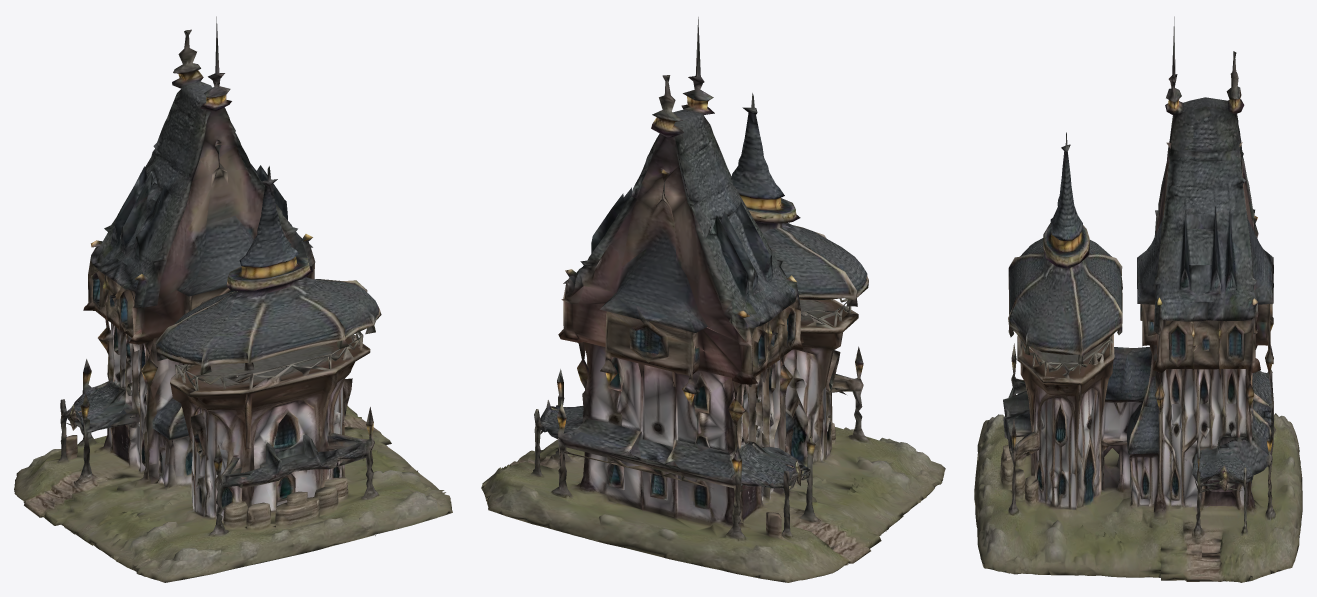
The model's file is manor.glb.
3 renders of one model, left to right at view 1: azimuth 30°, elevation 25°; view 2: azimuth 150°, elevation 25°; view 3: azimuth 270°, elevation 25°, orthographic. The views are drawn at different scales.
Visible parts, largest first — view 1: manor; view 2: manor; view 3: manor.
Part boxes in pixels (x1,y1,x2,y2): manor: (14, 16, 452, 582); manor: (481, 17, 945, 582); manor: (974, 16, 1302, 582).
Size of the model in its own units: 20 by 26 by 16.
1 material, 1 textured.
